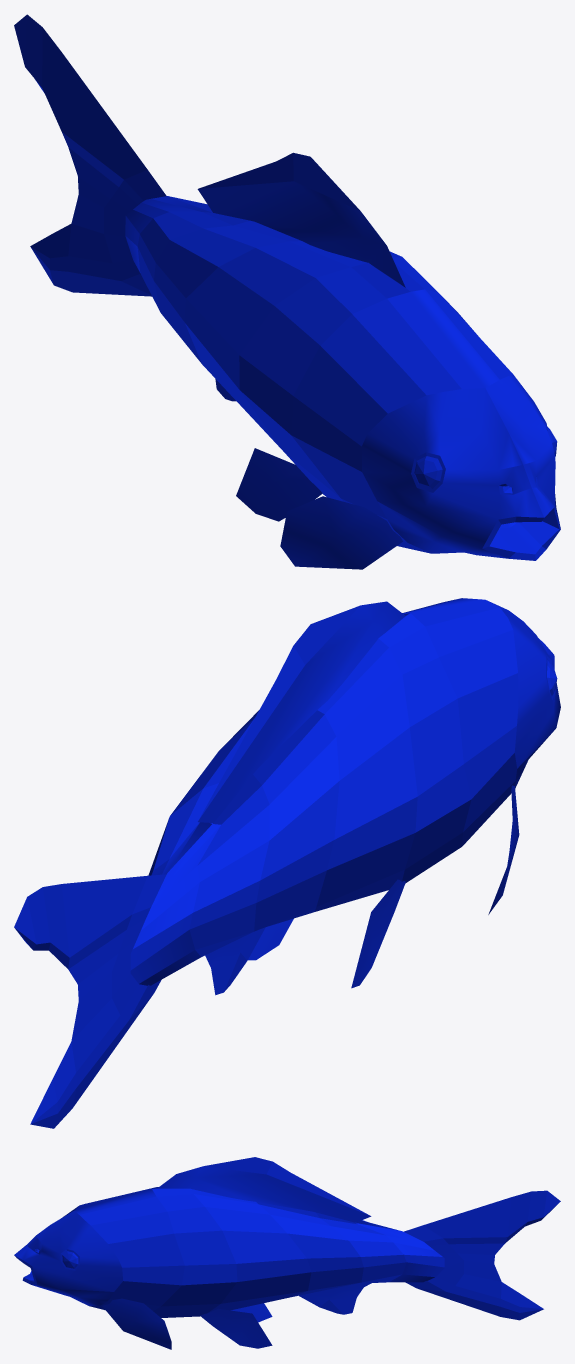
The model's file is fish1.fbx.
3 renders of one model, top to bottom at view 1: azimuth 30°, elevation 25°; view 2: azimuth 150°, elevation 25°; view 3: azimuth 270°, elevation 25°, orthographic. The views are drawn at different scales.
Parts seen in each view (by area): view 1: Рыба1; view 2: Рыба1; view 3: Рыба1.
Boxes of the visible parts, <box> form: Рыба1: <box>14,14,560,569</box>; Рыба1: <box>14,598,560,1128</box>; Рыба1: <box>14,1157,560,1349</box>.
Bounding box in the file's own units: 154 × 230 × 637.
